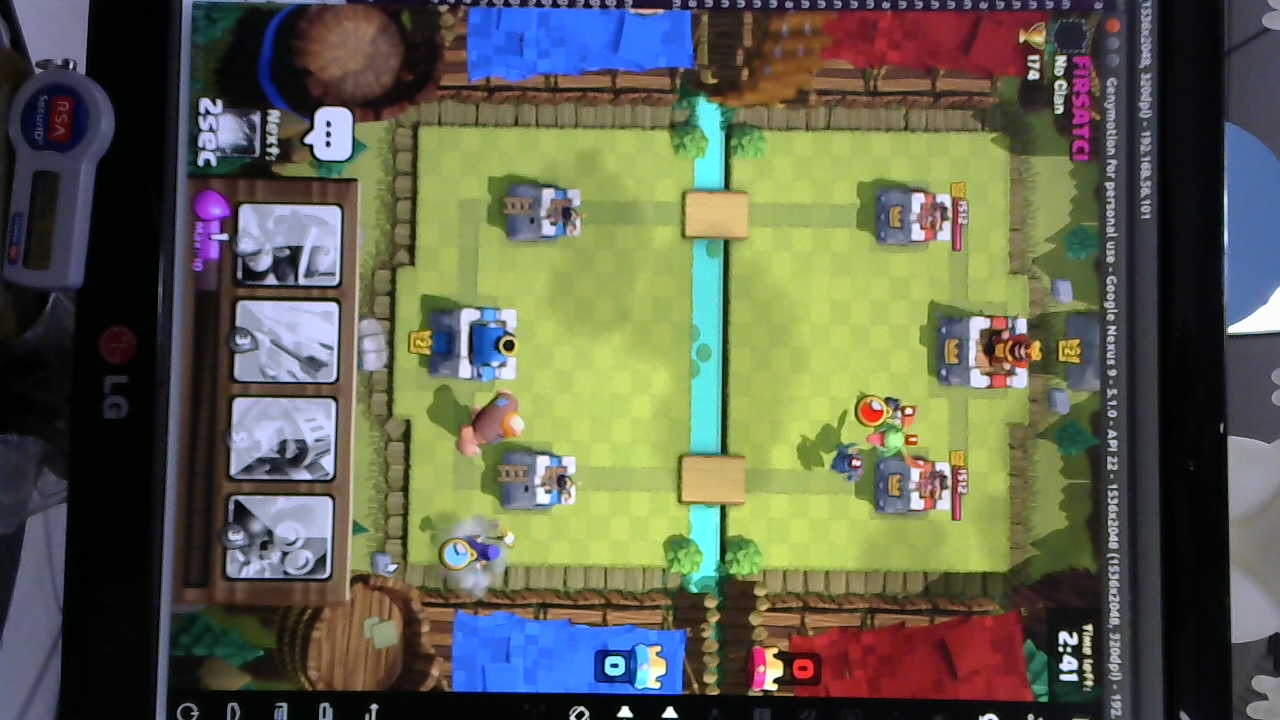bombE: (850, 395, 918, 428)
witchE: (437, 530, 522, 573)
